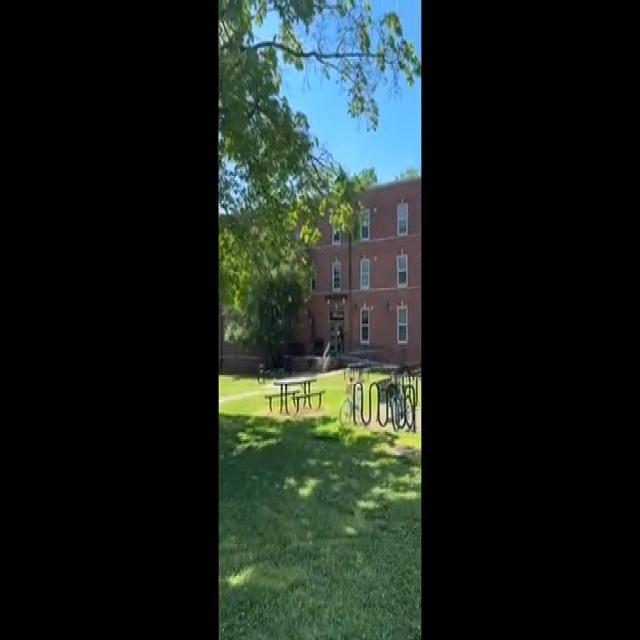drone: (296, 318, 306, 332)
